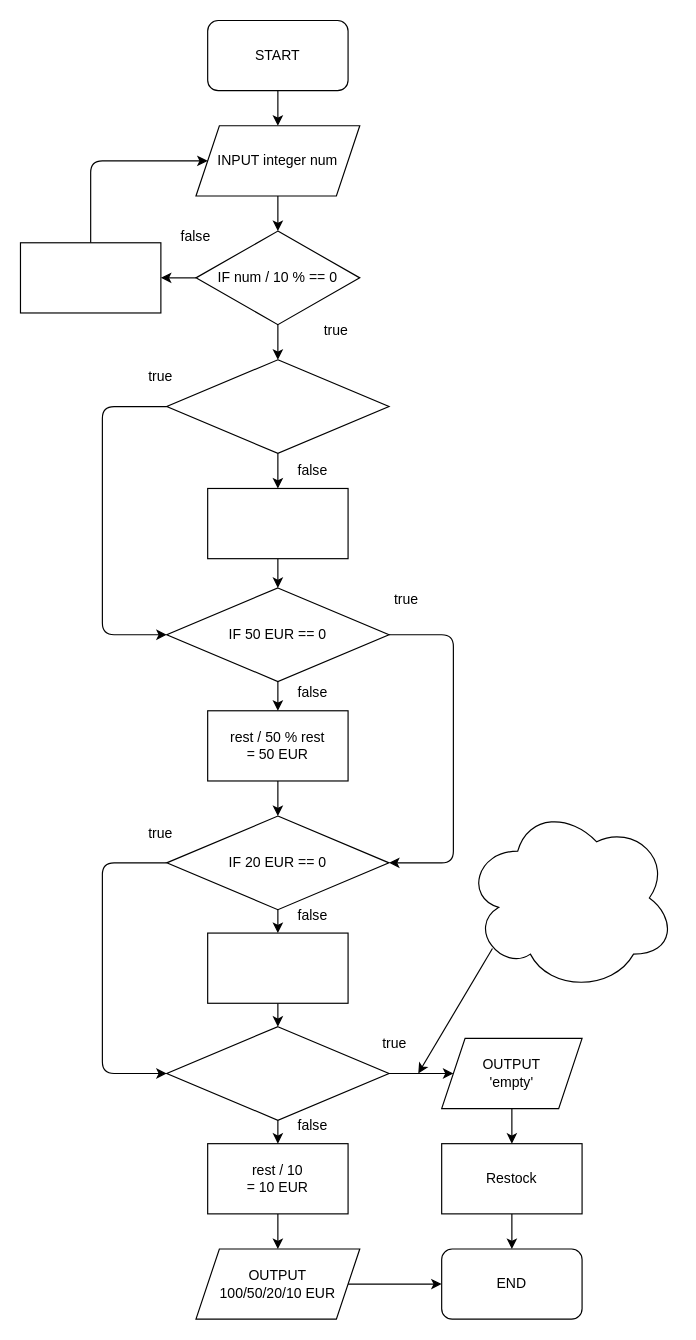
Image size: 696x1340. Some labels were removed from this diagram. Here are the shapes that lost their labels. From the top down, the box of each, then its label:
(19, 242, 161, 313): "number must be divideable by 10"
(166, 359, 389, 453): IF 100 EUR == 0
(207, 487, 348, 559): num / 100 % rest = 100 EUR
(464, 803, 676, 992): Hier noch loops einbauen, ob durch größere teilbar
(207, 932, 348, 1003): rest / 20 % rest = 20 EUR
(166, 1026, 389, 1120): IF 10 EUR == 0
